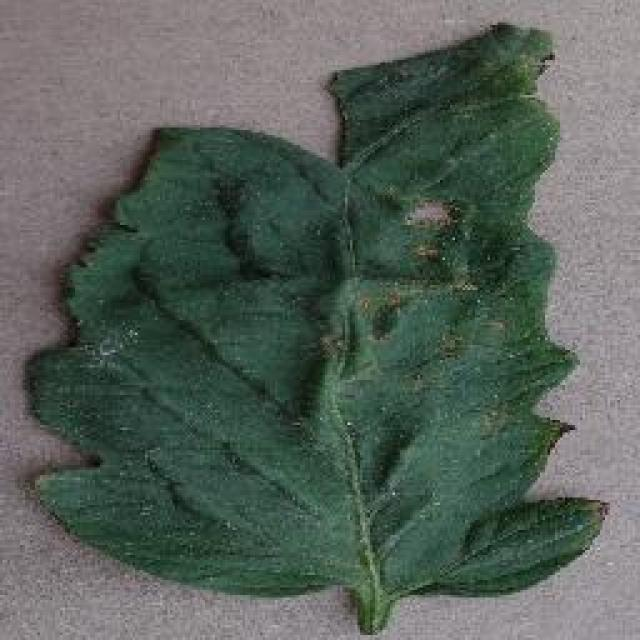Tomato___Bacterial_spot: (18, 16, 618, 638)
